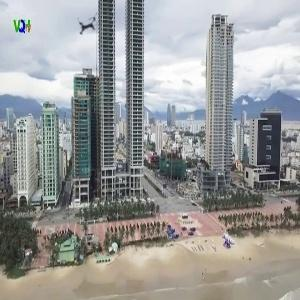drone: (64, 1, 114, 51)
